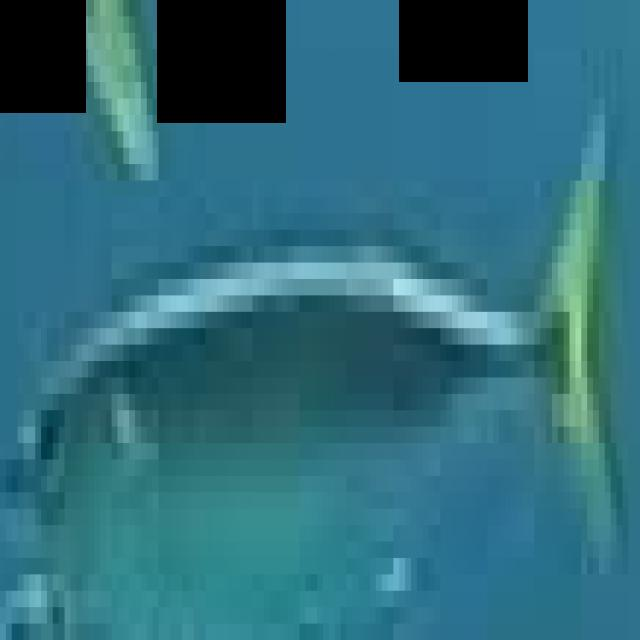fish: (6, 16, 640, 640)
